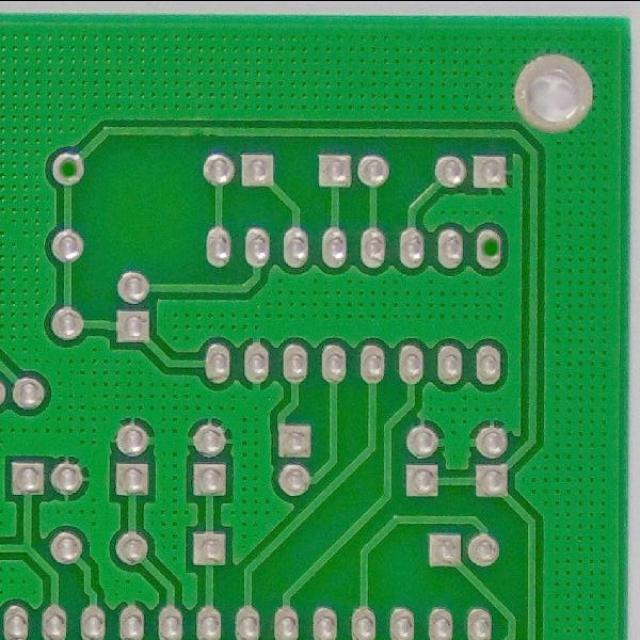Missing_Hole: (48, 148, 89, 188), (472, 226, 506, 271)
